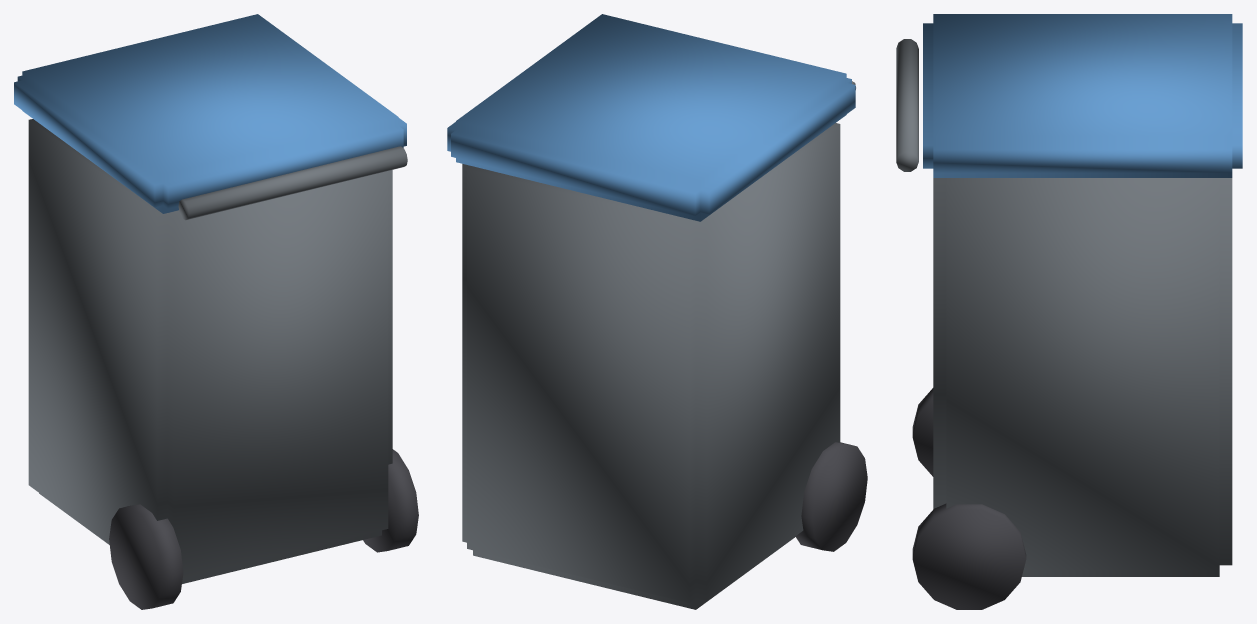
The model's file is ext_trash_bin.glb.
The picture shows the model from 3 angles, left to right: view 1: azimuth 30°, elevation 25°; view 2: azimuth 150°, elevation 25°; view 3: azimuth 270°, elevation 25°; orthographic projection. The views are drawn at different scales.
Parts seen in each view (by area): view 1: TrashBin; view 2: TrashBin; view 3: TrashBin.
Part boxes in pixels (<box>): TrashBin: <box>14,14,418,609</box>; TrashBin: <box>447,14,867,609</box>; TrashBin: <box>896,14,1242,609</box>.
Bounding box in the file's own units: 0.61 × 1 × 0.672.
